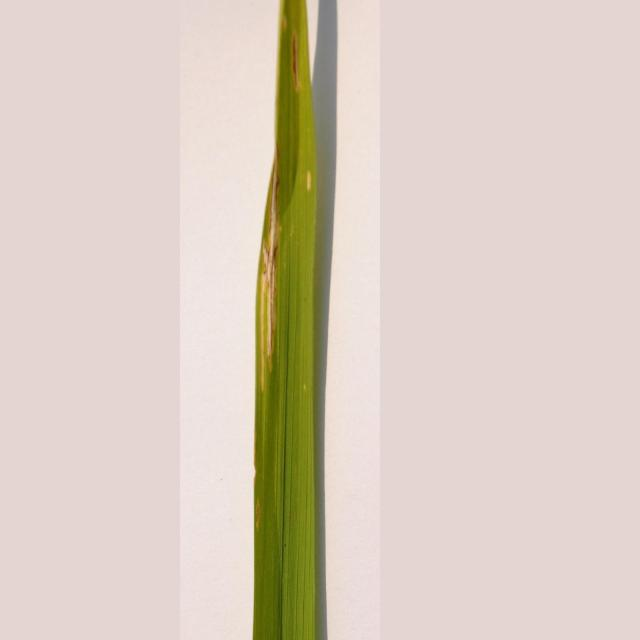Bacterial leaf blight: (230, 2, 356, 640)
